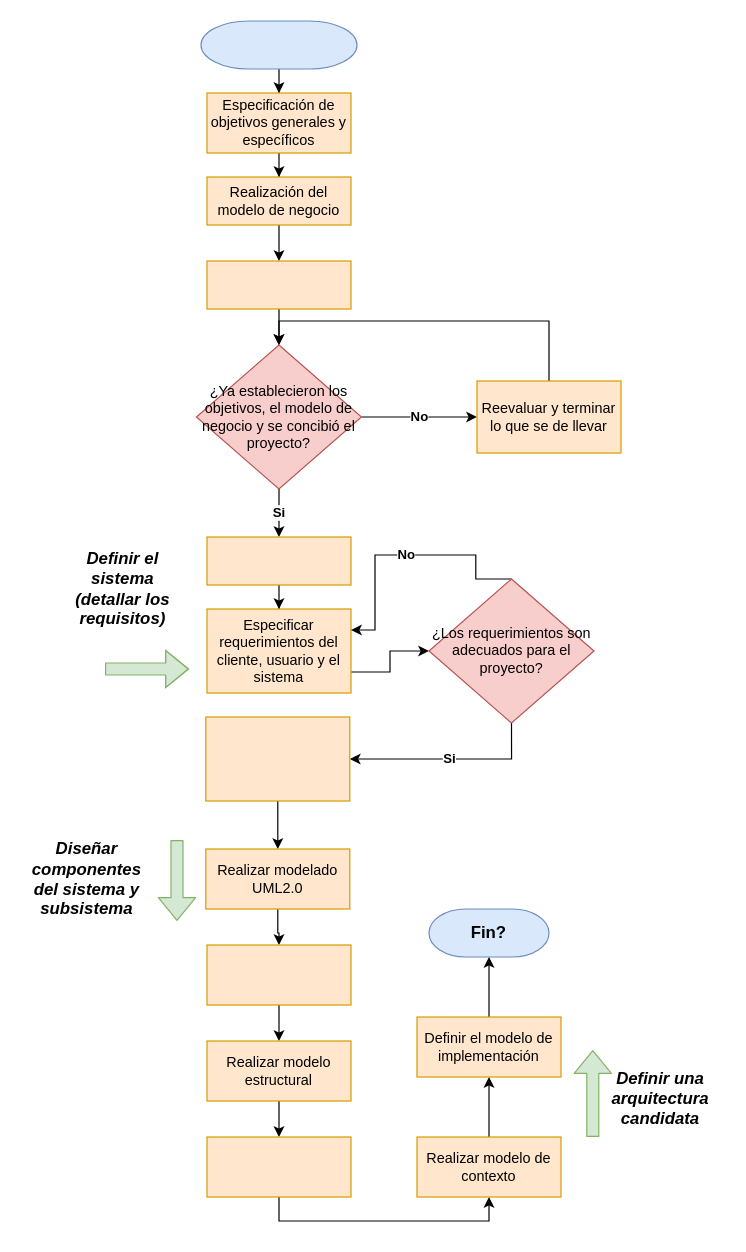
This 746x1252 diagram has some shape labels left out. Each missing label, with the centre of its shape:
"Concepción del proyecto" belongs at pixel 278 284.
"Formalizar el proyecto" belongs at pixel 278 560.
"Inicio del proyecto" belongs at pixel 278 44.
"Realizar documentación de requisitos IEEE830" belongs at pixel 277 758.
"Realizar modelo de comportamiento" belongs at pixel 278 1166.
"Realizar modelo de interacción" belongs at pixel 278 974.
